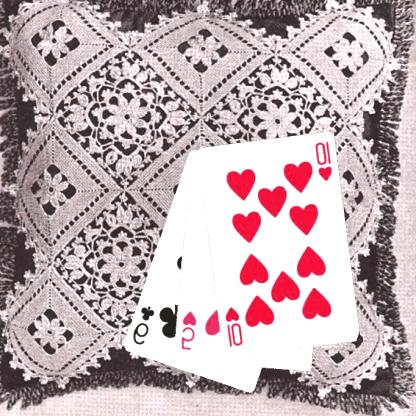10H: (314, 139, 336, 183), (224, 304, 245, 349)
5H: (179, 309, 199, 352)
6C: (132, 303, 158, 347)
